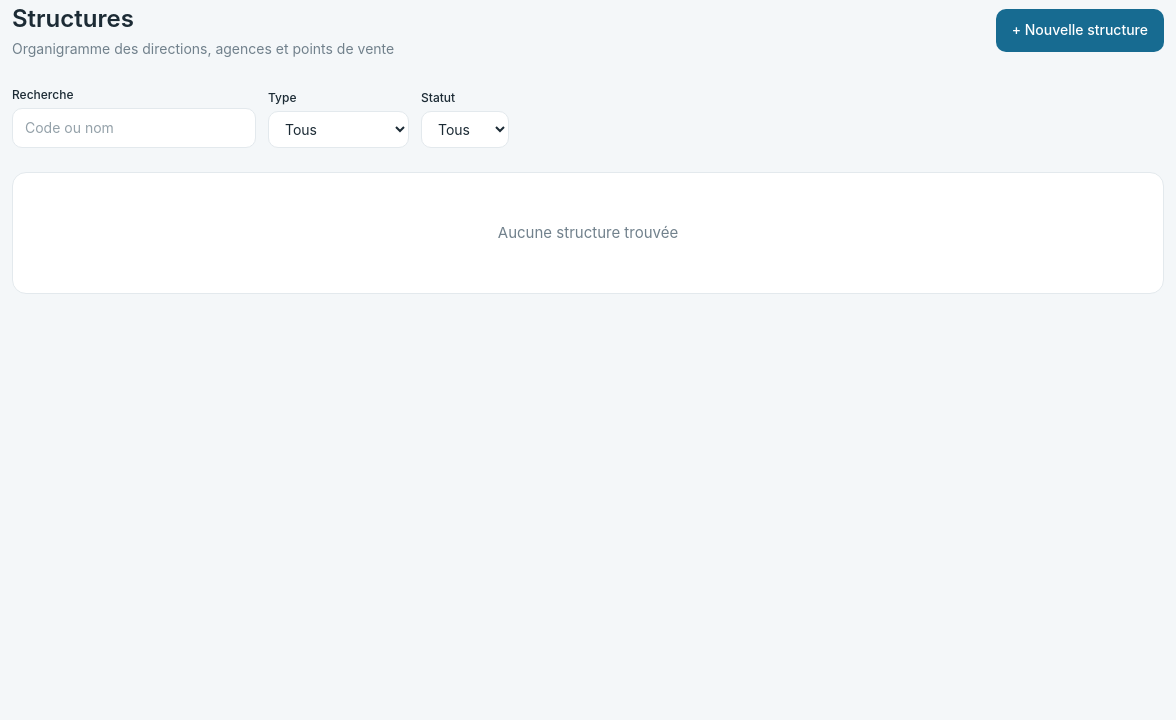
it: le bouton nouvelle structure navigue vers le formulaire de création
Click the button "+ Nouvelle structure": (1080, 30) left=996, top=9, right=1164, bottom=52
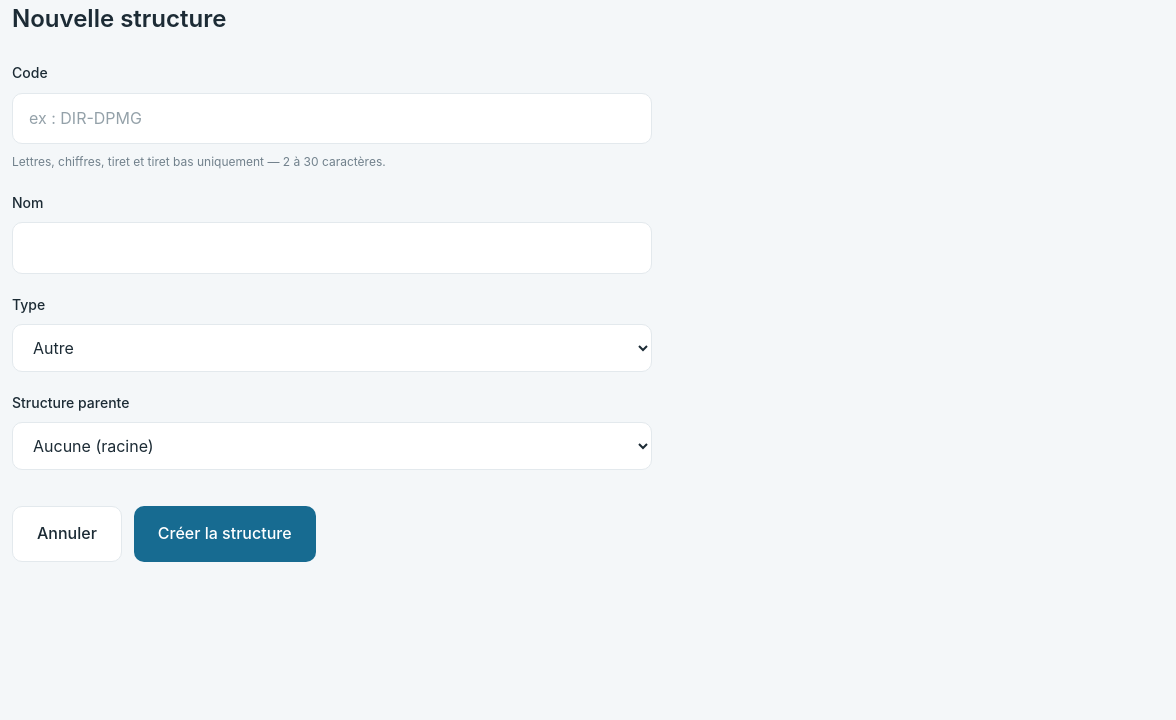
Result: the element with test id "structure-form" is shown at left=12, top=0, right=652, bottom=562
